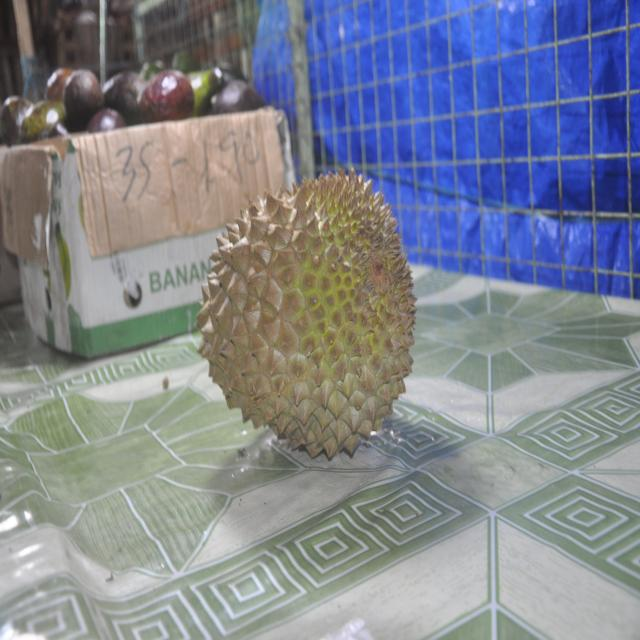mature: (197, 168, 424, 469)
